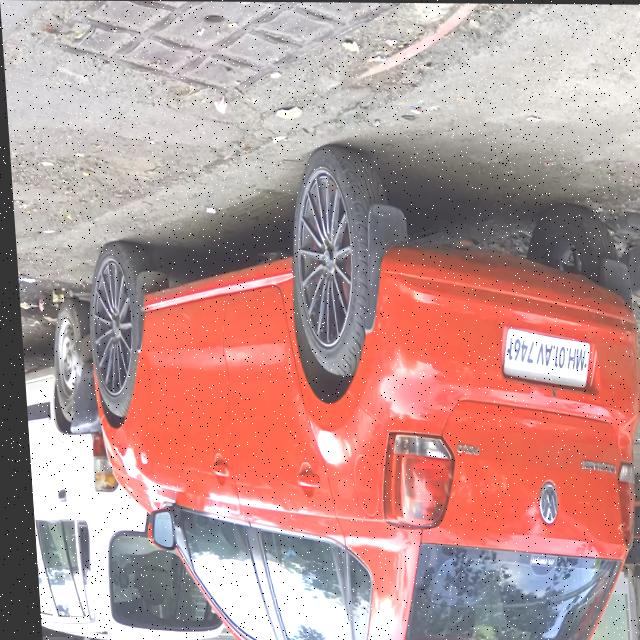plate: (495, 322, 588, 389)
